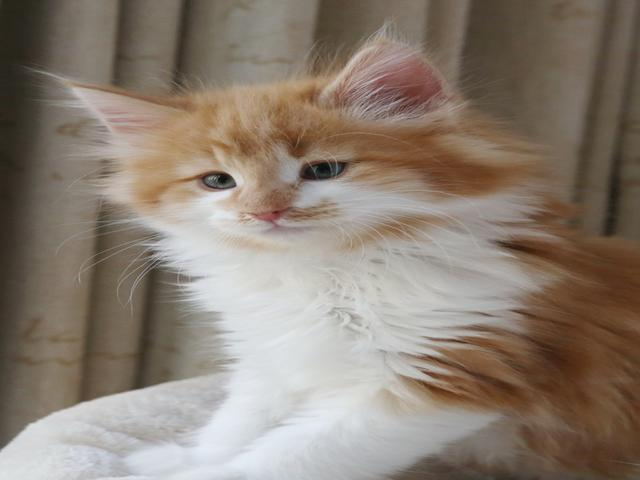cat: (18, 24, 625, 438)
